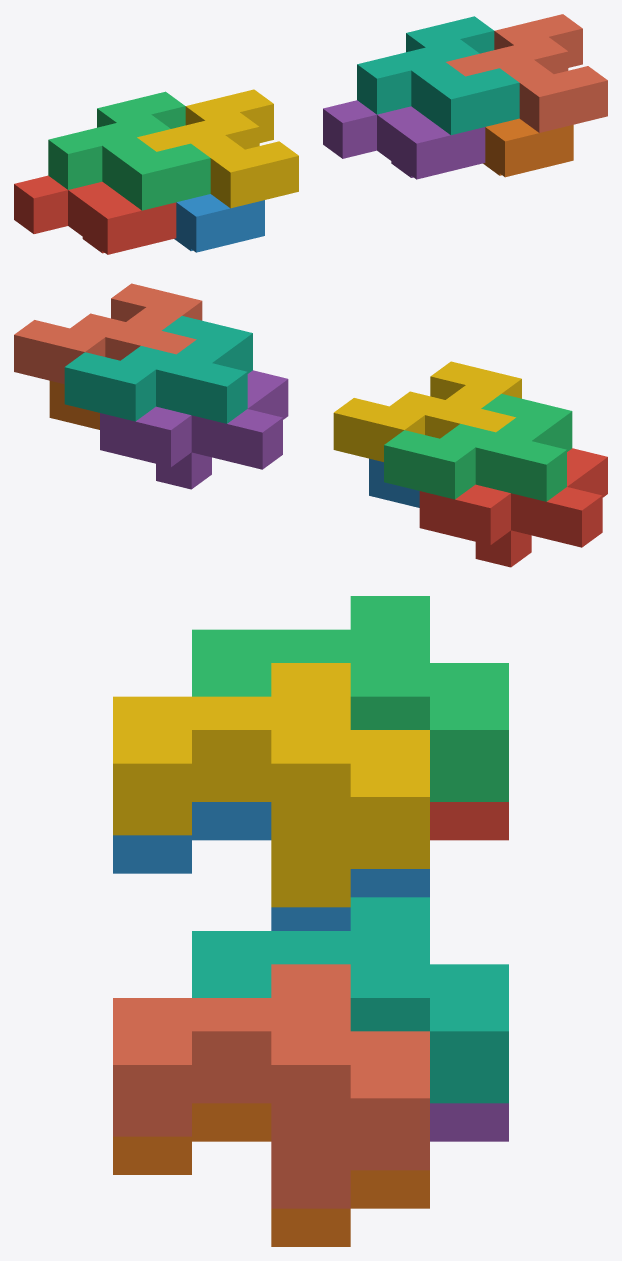
The model's file is tiling.obj.
3 renders of one model, top to bottom at view 1: azimuth 30°, elevation 25°; view 2: azimuth 150°, elevation 25°; view 3: azimuth 270°, elevation 25°, orthographic. The views are drawn at different scales.
Parts seen in each view (by area): view 1: copy_1_domain_7, copy_1_domain_3, copy_1_domain_8, copy_1_domain_4, copy_1_domain_1, copy_1_domain_5, copy_1_domain_2, copy_1_domain_6; view 2: copy_1_domain_7, copy_1_domain_3, copy_1_domain_1, copy_1_domain_5, copy_1_domain_4, copy_1_domain_8, copy_1_domain_6, copy_1_domain_2; view 3: copy_1_domain_4, copy_1_domain_8, copy_1_domain_7, copy_1_domain_3, copy_1_domain_6, copy_1_domain_2, copy_1_domain_1, copy_1_domain_5.
Boxes of the visible parts, box(x1,y1,x2,y2) form: copy_1_domain_7: box(357, 16, 519, 135); copy_1_domain_3: box(48, 91, 210, 210); copy_1_domain_8: box(446, 14, 607, 132); copy_1_domain_4: box(137, 89, 298, 208); copy_1_domain_1: box(14, 175, 176, 254); copy_1_domain_5: box(323, 100, 485, 179); copy_1_domain_2: box(174, 194, 264, 252); copy_1_domain_6: box(483, 118, 573, 177); copy_1_domain_7: box(64, 316, 252, 423); copy_1_domain_3: box(384, 393, 572, 501); copy_1_domain_1: box(419, 448, 607, 567); copy_1_domain_5: box(100, 370, 288, 489); copy_1_domain_4: box(333, 361, 521, 461); copy_1_domain_8: box(14, 283, 202, 384); copy_1_domain_6: box(49, 381, 99, 429); copy_1_domain_2: box(369, 458, 419, 507); copy_1_domain_4: box(113, 663, 429, 907); copy_1_domain_8: box(113, 964, 429, 1208); copy_1_domain_7: box(192, 897, 508, 1103); copy_1_domain_3: box(192, 596, 508, 801); copy_1_domain_6: box(113, 1103, 429, 1246); copy_1_domain_2: box(113, 802, 429, 930); copy_1_domain_1: box(430, 802, 508, 840); copy_1_domain_5: box(430, 1103, 508, 1141).
Bounding box in the file's own units: 16 × 3 × 5.
